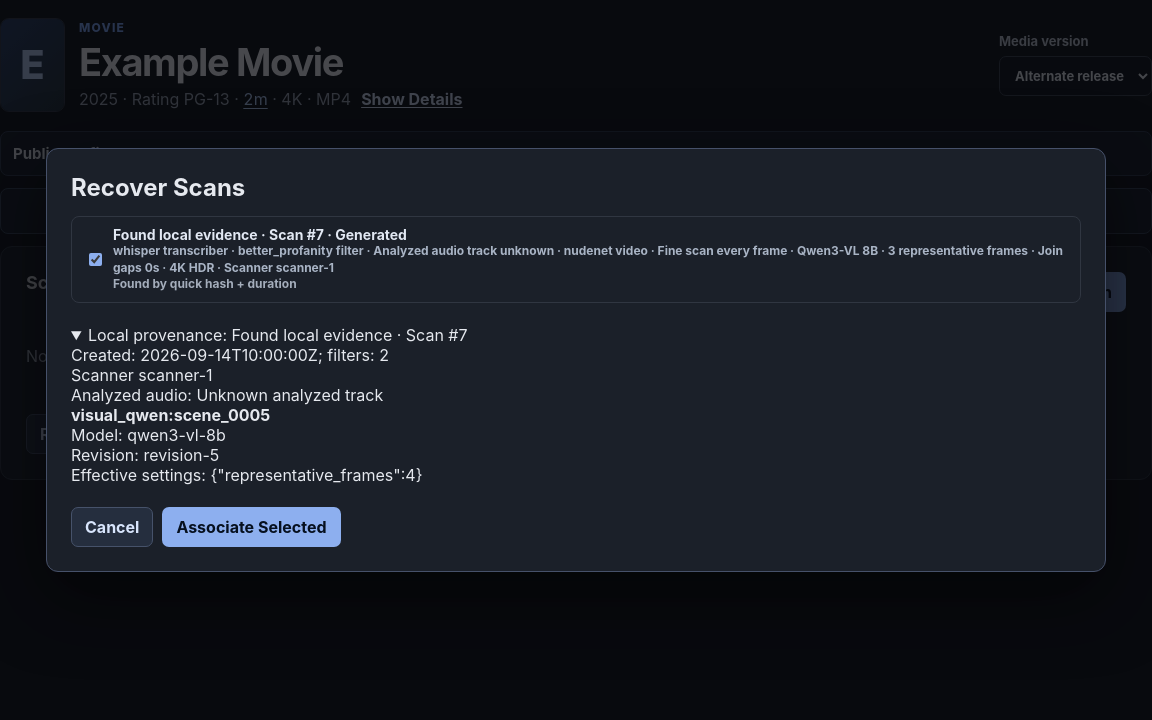
Test case: recovers local scans for Jellyfin and the selected review version
Earlier steps of the test are not shown.
Expected: the text "Local provenance: Found local evidence" shows "Scanner scanner-1", [71, 365, 212, 385]
Expected: the text "Local provenance: Found local evidence" shows "visual_qwen:scene_0005", [71, 405, 270, 425]
Click the button "Associate Selected". click: point(252, 527)
box: [162, 507, 341, 547]
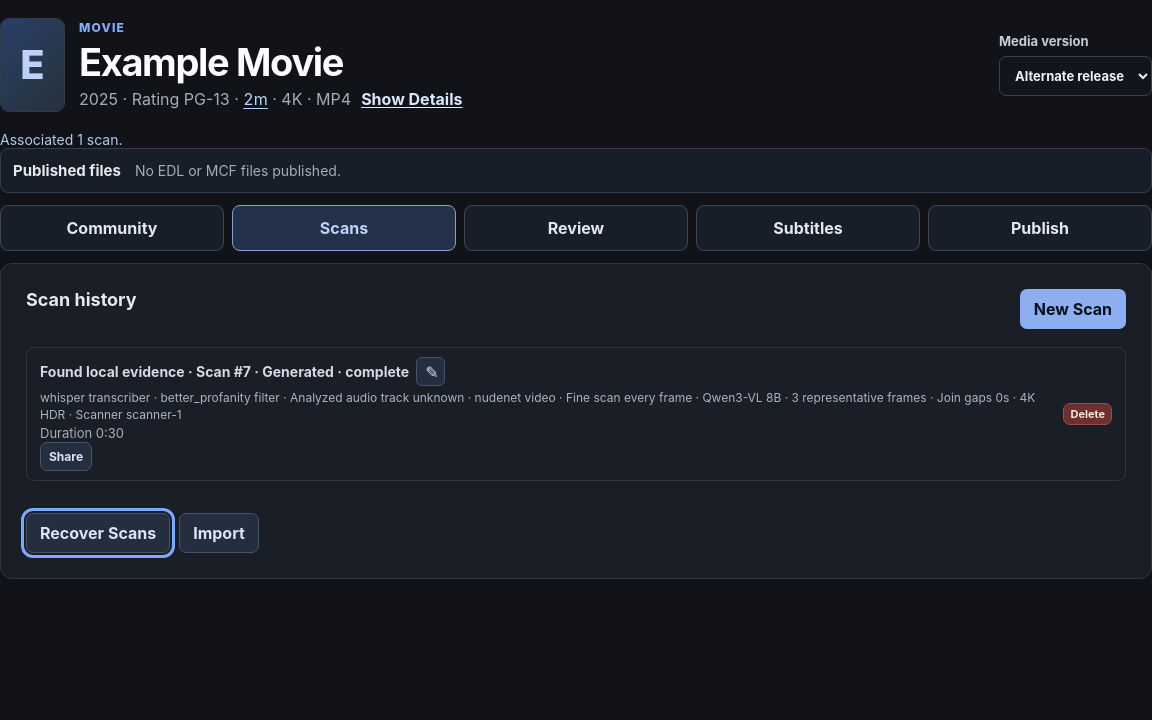
Expected: the list named "Scan history" shows "Scanner scanner-1", [40, 390, 1035, 422]
Expected: the message reads "Associated 1 scan.", [0, 131, 122, 148]
Expected: the text "Found local evidence · Scan #7 · Generated · complete" is shown, [40, 363, 409, 380]
Click the tab "Review". click: point(576, 228)
box: [464, 205, 688, 251]
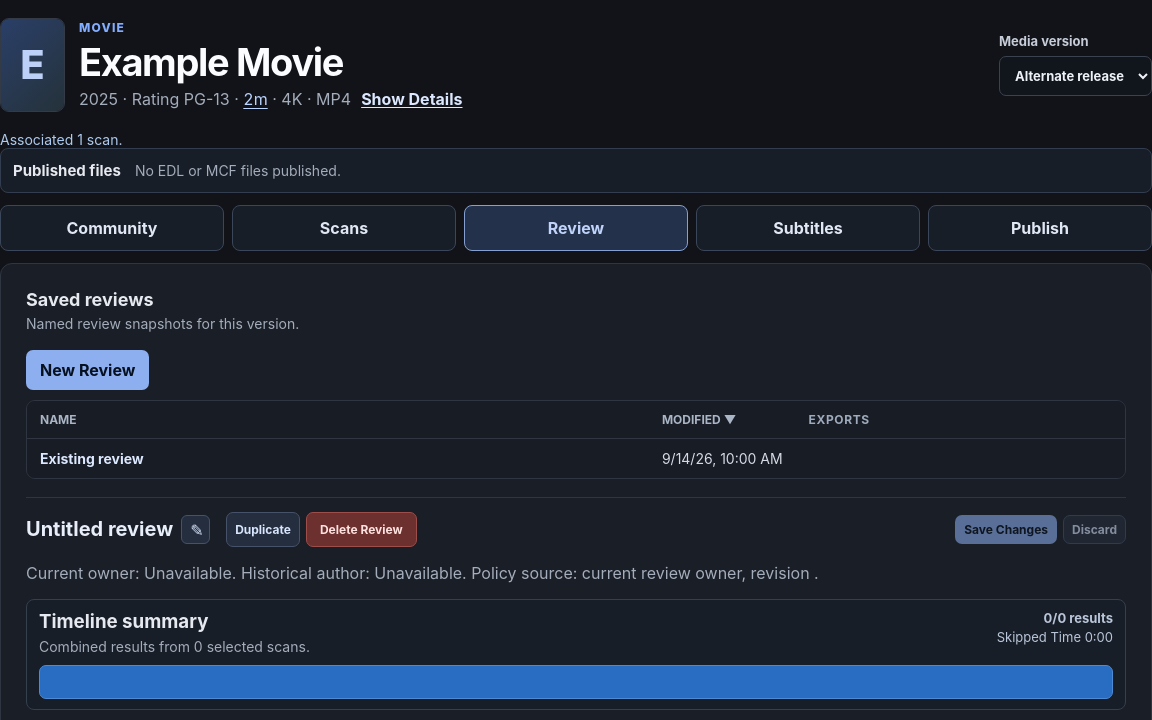
Expected: the button with aria-label "Open review Existing review" is shown, [40, 450, 636, 467]
Click the button "New Review". click: point(88, 370)
box: [26, 350, 149, 390]
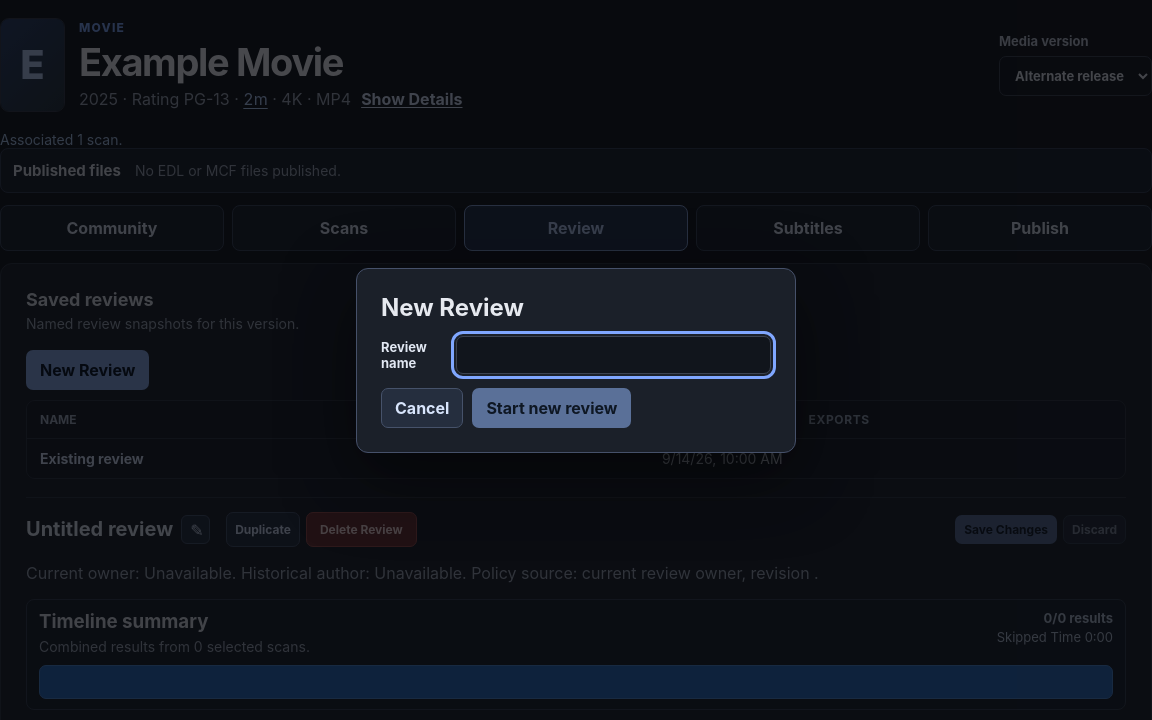
Type "Reuse found evidence" into the field named "New review name". click: point(613, 354)
box: [456, 336, 771, 374]
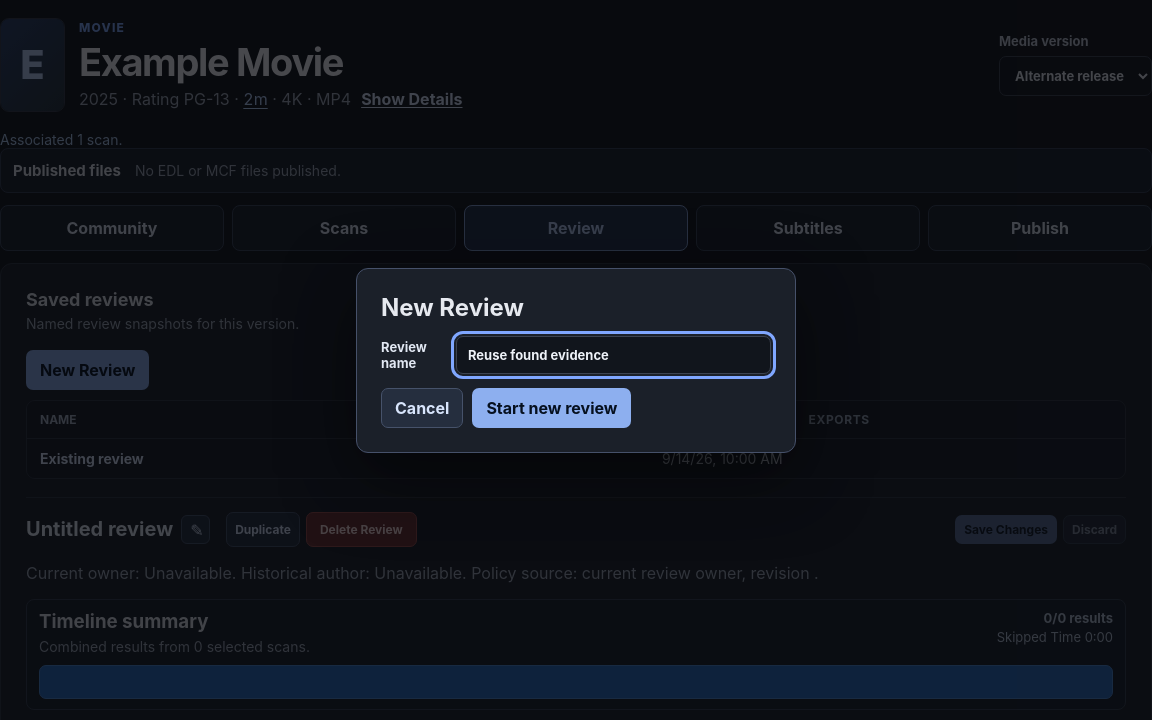
Click the button "Start new review". click: point(552, 408)
box: [472, 388, 632, 428]
(page scrolled)
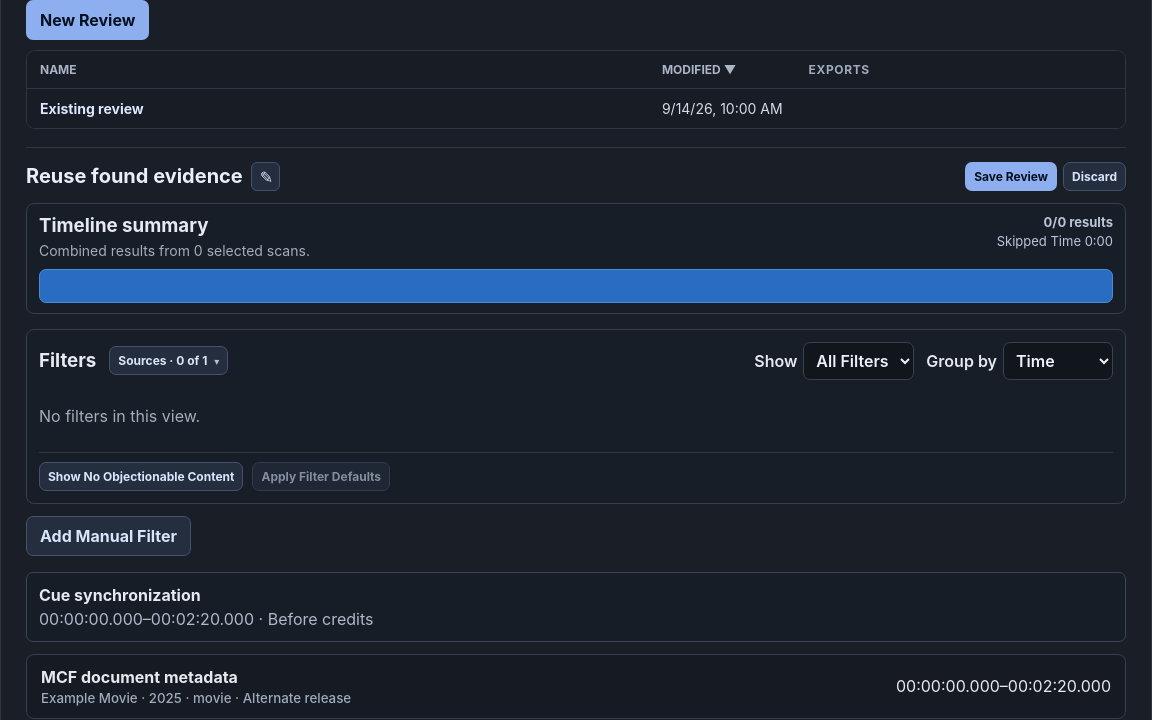
Click the button "Sources · 0 of 1 ▾". click: point(169, 361)
box: [109, 346, 228, 375]
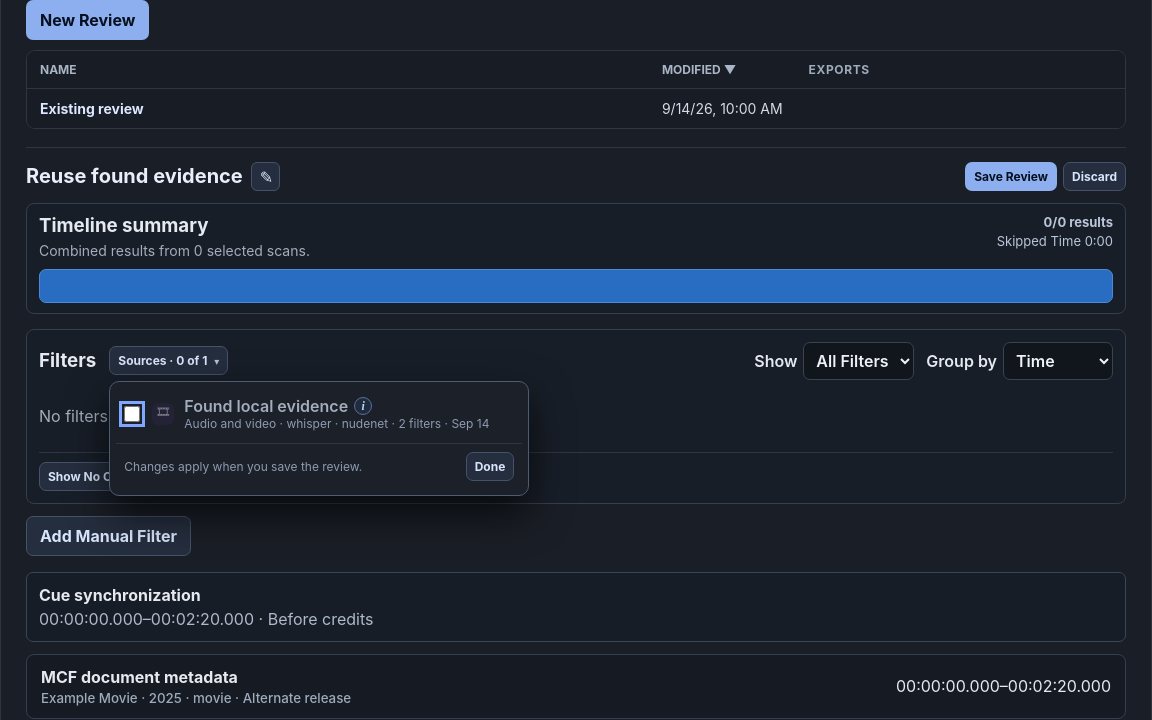
Expected: the checkbox labelled "Found local evidence" is shown, [124, 406, 140, 422]
